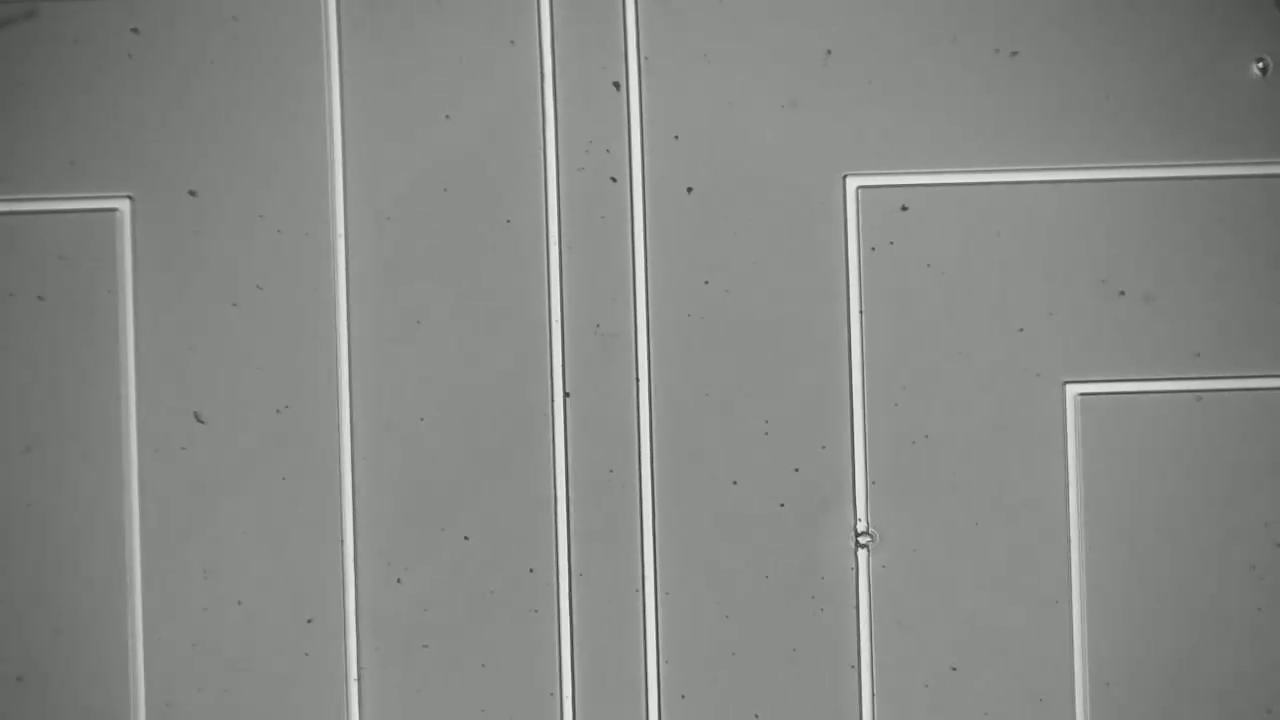stains_enbedded: (849, 516, 887, 565)
